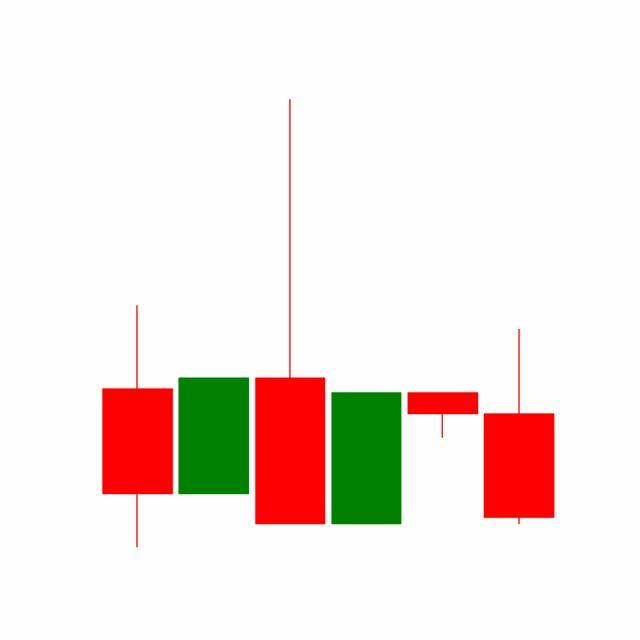Hanging Man: (404, 392, 482, 440)
